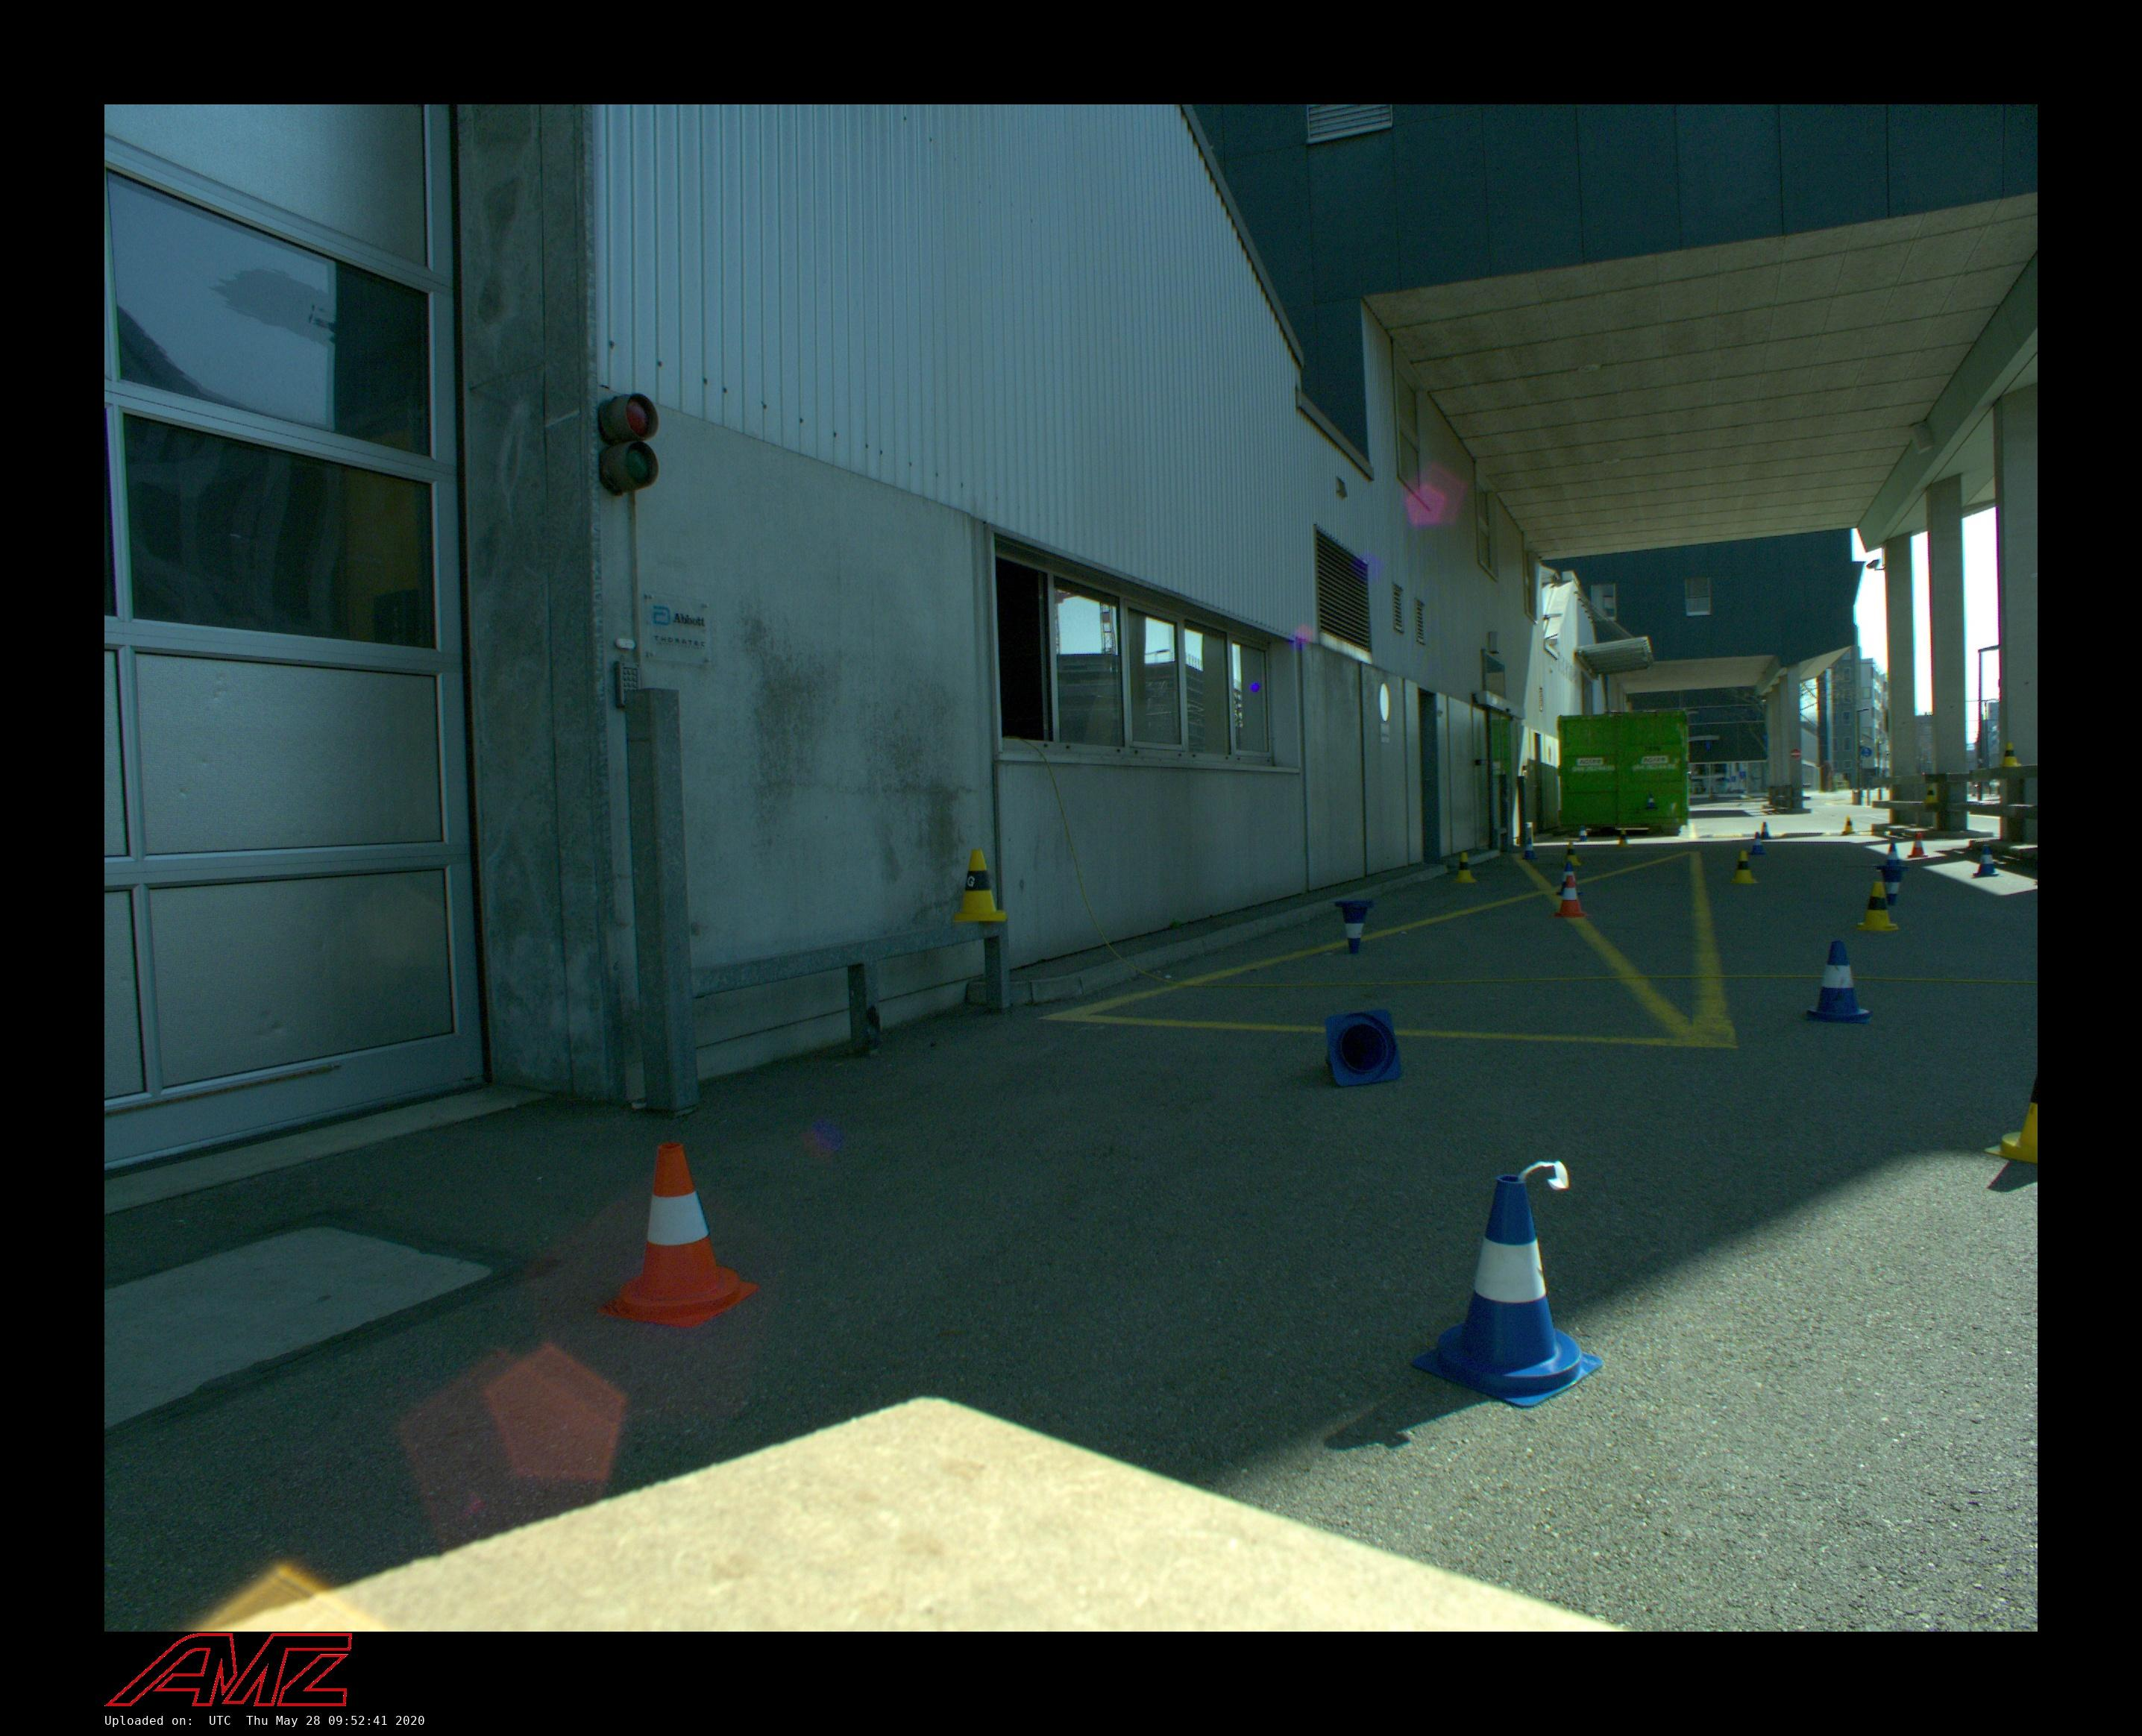blue_cone: (1409, 1174, 1603, 1409), (1323, 1008, 1402, 1088), (1804, 940, 1873, 1023), (1334, 900, 1373, 955), (1875, 864, 1910, 905), (1972, 845, 2000, 878), (1557, 861, 1582, 896), (1882, 843, 1904, 872), (1749, 832, 1765, 855), (1522, 837, 1538, 860), (1758, 822, 1771, 840), (1645, 794, 1658, 809), (1578, 825, 1588, 842)
orange_cone: (597, 1142, 758, 1329), (1555, 875, 1586, 917), (1907, 833, 1929, 858)
yellow_cone: (952, 849, 1007, 922), (1856, 881, 1899, 931), (1728, 851, 1759, 884), (1452, 852, 1477, 883), (1998, 743, 2022, 767), (1562, 841, 1581, 865), (1923, 784, 1939, 804), (1615, 828, 1631, 848), (1843, 817, 1854, 834)
